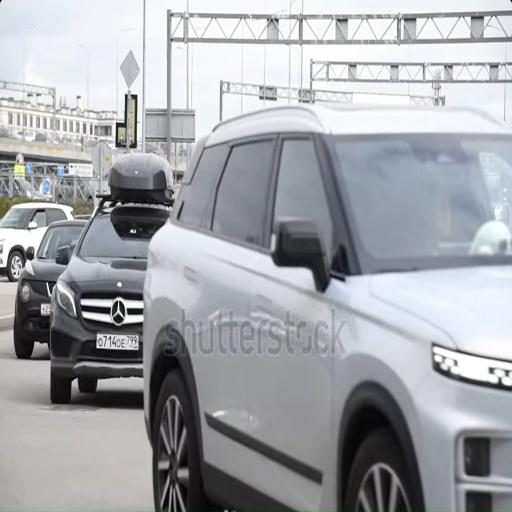License plates: (96, 334, 138, 350), (41, 304, 50, 316)
